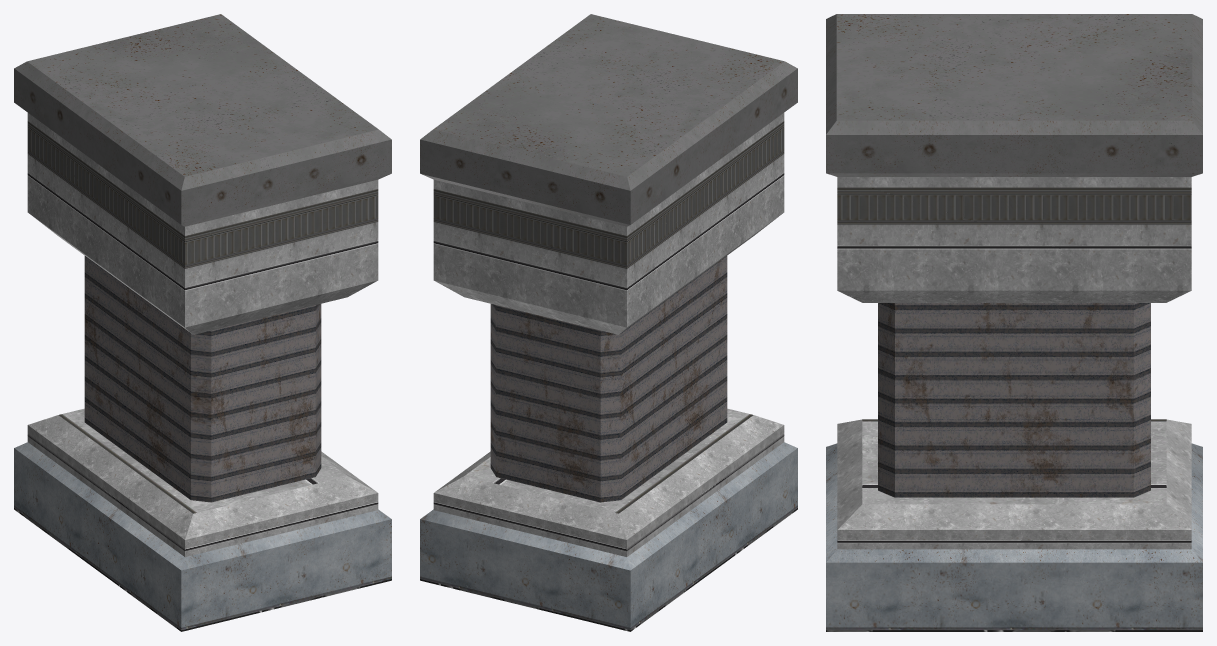
Rendered from Ob_FactorySupport_RC.fbx.
The picture shows the model from 3 angles, left to right: view 1: azimuth 30°, elevation 25°; view 2: azimuth 150°, elevation 25°; view 3: azimuth 270°, elevation 25°; orthographic projection. The views are drawn at different scales.
Visible parts, largest first — view 1: Ob_FactorySupport_RC; view 2: Ob_FactorySupport_RC; view 3: Ob_FactorySupport_RC.
Part boxes in pixels (left/top/right/bottom): Ob_FactorySupport_RC: left=14, top=14, right=391, bottom=631; Ob_FactorySupport_RC: left=420, top=14, right=797, bottom=631; Ob_FactorySupport_RC: left=826, top=14, right=1202, bottom=631.
Size of the model in its own units: 1585 by 3237 by 2183.
